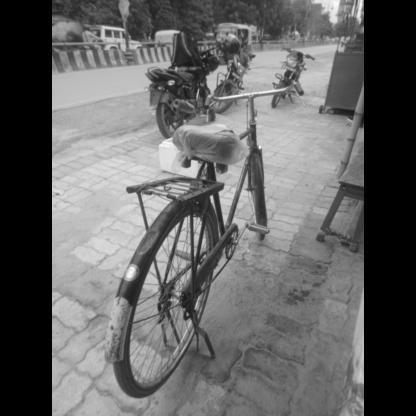Bicycle: (84, 68, 330, 413)
